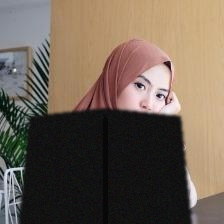Cadar_Niqab: (19, 38, 191, 224)
